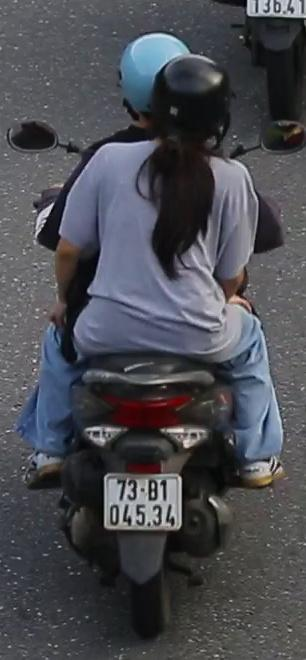LP: (99, 468, 187, 537)
helmet: (155, 51, 239, 156), (113, 27, 191, 134)
